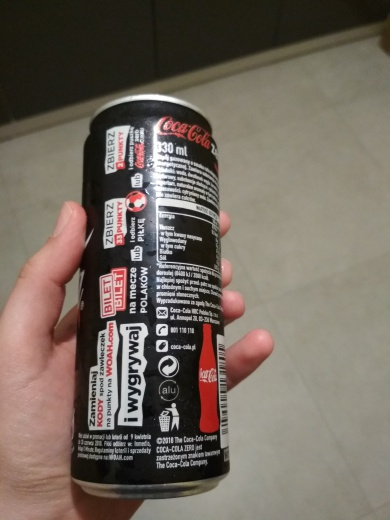colazero: (64, 91, 250, 505)
